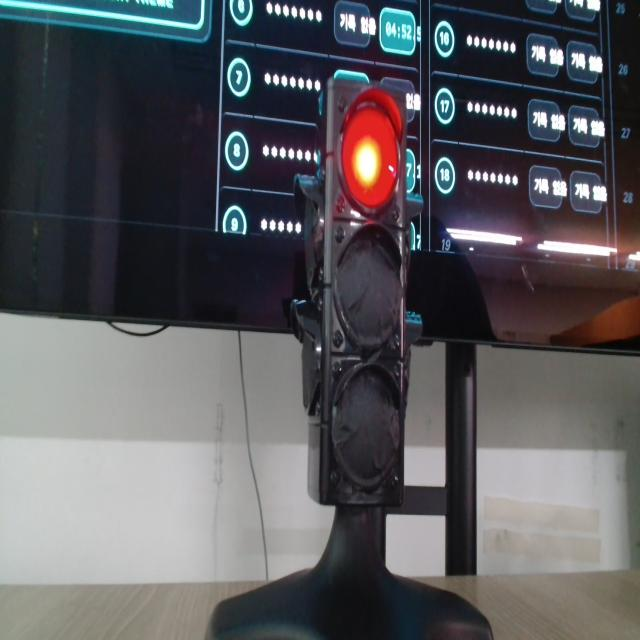red_light: (341, 102, 399, 209)
